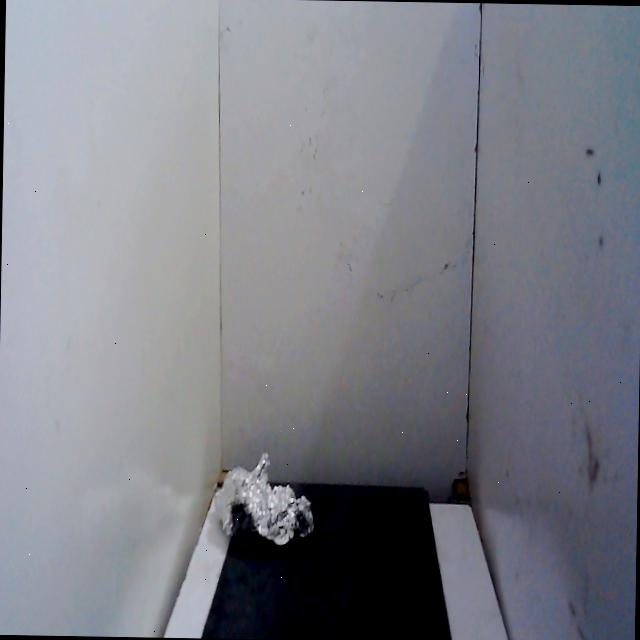metal: (207, 441, 319, 560)
